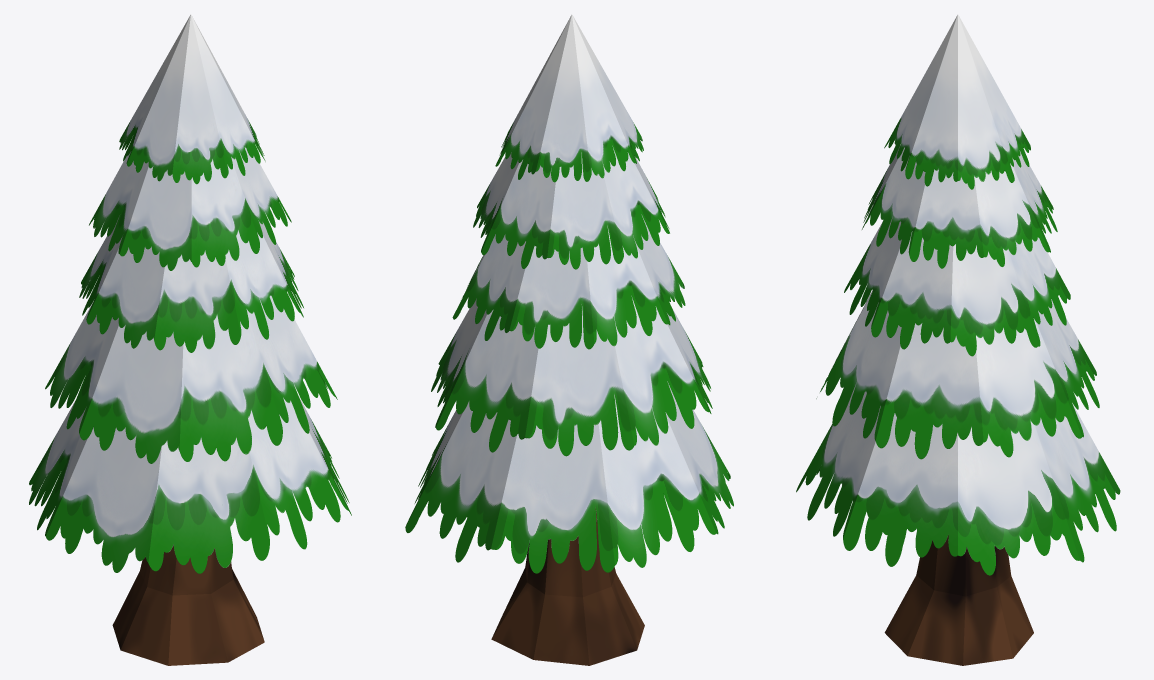
File: Tree.fbx
3 views of the same model, side by side, from view 1: azimuth 30°, elevation 25°; view 2: azimuth 150°, elevation 25°; view 3: azimuth 270°, elevation 25° (orthographic).
Parts seen in each view (by area): view 1: Cone.005, Cone, Cone.001, Cone.002, Cone.003, Trunk; view 2: Cone.005, Cone, Cone.001, Cone.002, Cone.003, Trunk; view 3: Cone.005, Cone, Cone.001, Cone.003, Cone.002, Trunk.
Part boxes in pixels (x1=…): Cone.005: x1=29, y1=397, x2=351, y2=573; Cone: x1=45, y1=295, x2=337, y2=463; Cone.001: x1=79, y1=215, x2=303, y2=352; Cone.002: x1=89, y1=147, x2=291, y2=270; Cone.003: x1=119, y1=14, x2=265, y2=184; Trunk: x1=112, y1=545, x2=264, y2=665; Cone.005: x1=405, y1=381, x2=733, y2=573; Cone: x1=431, y1=296, x2=712, y2=456; Cone.001: x1=452, y1=214, x2=685, y2=349; Cone.002: x1=473, y1=146, x2=669, y2=269; Cone.003: x1=495, y1=14, x2=643, y2=182; Trunk: x1=491, y1=508, x2=644, y2=665; Cone.005: x1=796, y1=384, x2=1120, y2=575; Cone: x1=816, y1=290, x2=1099, y2=459; Cone.001: x1=844, y1=217, x2=1070, y2=356; Cone.003: x1=884, y1=14, x2=1030, y2=189; Cone.002: x1=862, y1=145, x2=1057, y2=268; Trunk: x1=884, y1=535, x2=1033, y2=665.
Bounding box in the file's own units: 557 × 1046 × 557.
2 materials, 2 textured.
